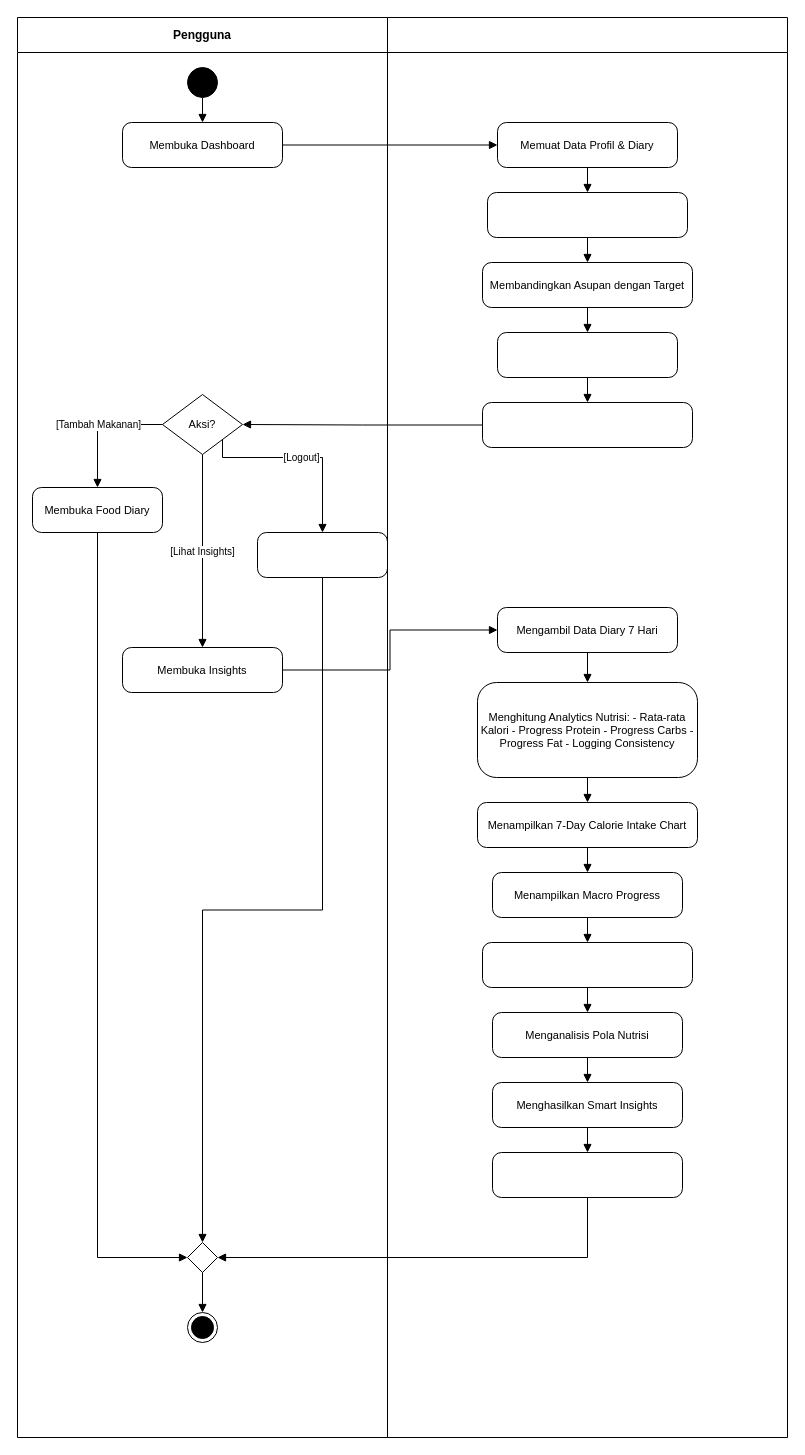
Some shapes in this 805 by 1455 pixel diagram are drawn without their labels. The box of each missing label's shape, as (x1, y1, x2, y2) in pixels:
Melakukan Logout: (256, 532, 388, 578)
Menampilkan Dashboard & Daily Insight: (482, 402, 692, 448)
Menampilkan Logging Consistency: (482, 942, 692, 988)
Menampilkan Smart Insights: (492, 1152, 682, 1198)
Menghasilkan Daily Insight: (496, 332, 678, 378)
Menghitung Total Kalori & Makronutrisi: (486, 192, 688, 238)
Sistem: (386, 16, 788, 1438)
